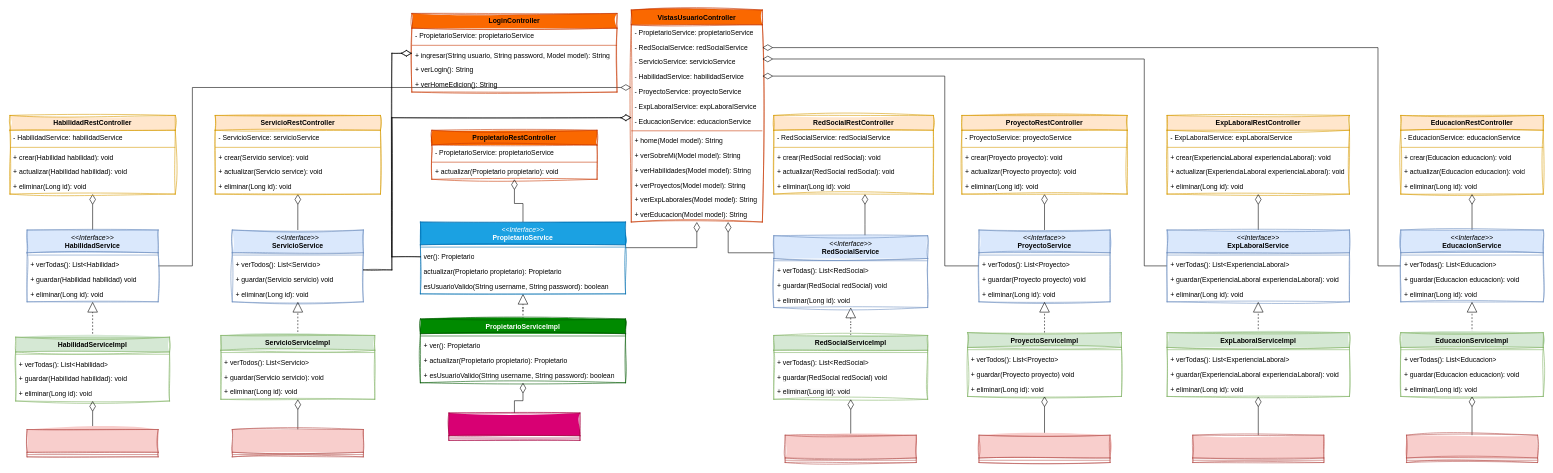
This 1553x473 diagram has some shape labels left out. Each missing label, with the centre of its shape:
<<Interface>> EducacionRepository: the point at 1472,449
<<Interface>> ExpLaboralRepository: the point at 1258,449
<<Interface>> HabilidadRepository: the point at 92,443
<<Interface>> PropietarioRepository: the point at 514,426
<<Interface>> ProyectoRepository: the point at 1044,449
<<Interface>> RedSocialRepository: the point at 850,449
<<Interface>> ServicioRepository: the point at 297,443
